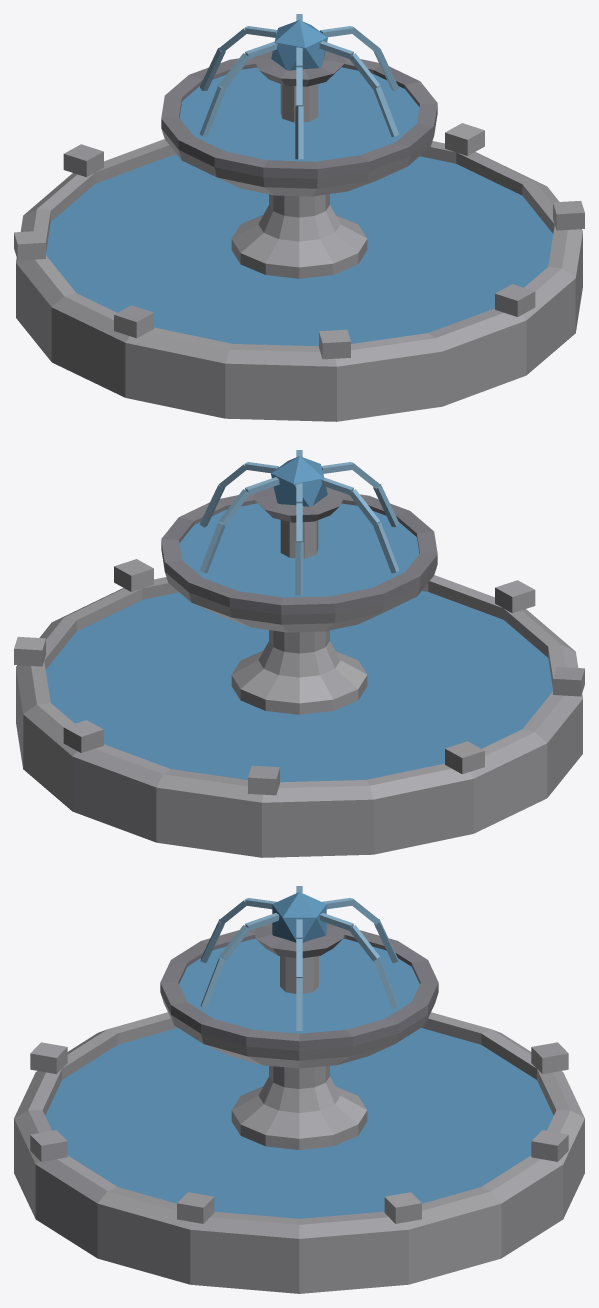
File: Decor_FoodTruck_Fountain.fbx
3 renders of one model, top to bottom at view 1: azimuth 30°, elevation 25°; view 2: azimuth 150°, elevation 25°; view 3: azimuth 270°, elevation 25°, orthographic.
Visible parts, largest first — view 1: Fountain_Body; view 2: Fountain_Body; view 3: Fountain_Body.
Part boxes in pixels (x1,y1,x2,y2): Fountain_Body: (14, 14, 584, 421); Fountain_Body: (14, 450, 584, 857); Fountain_Body: (14, 886, 584, 1293).
Size of the model in its own units: 16 by 8.7 by 16.
